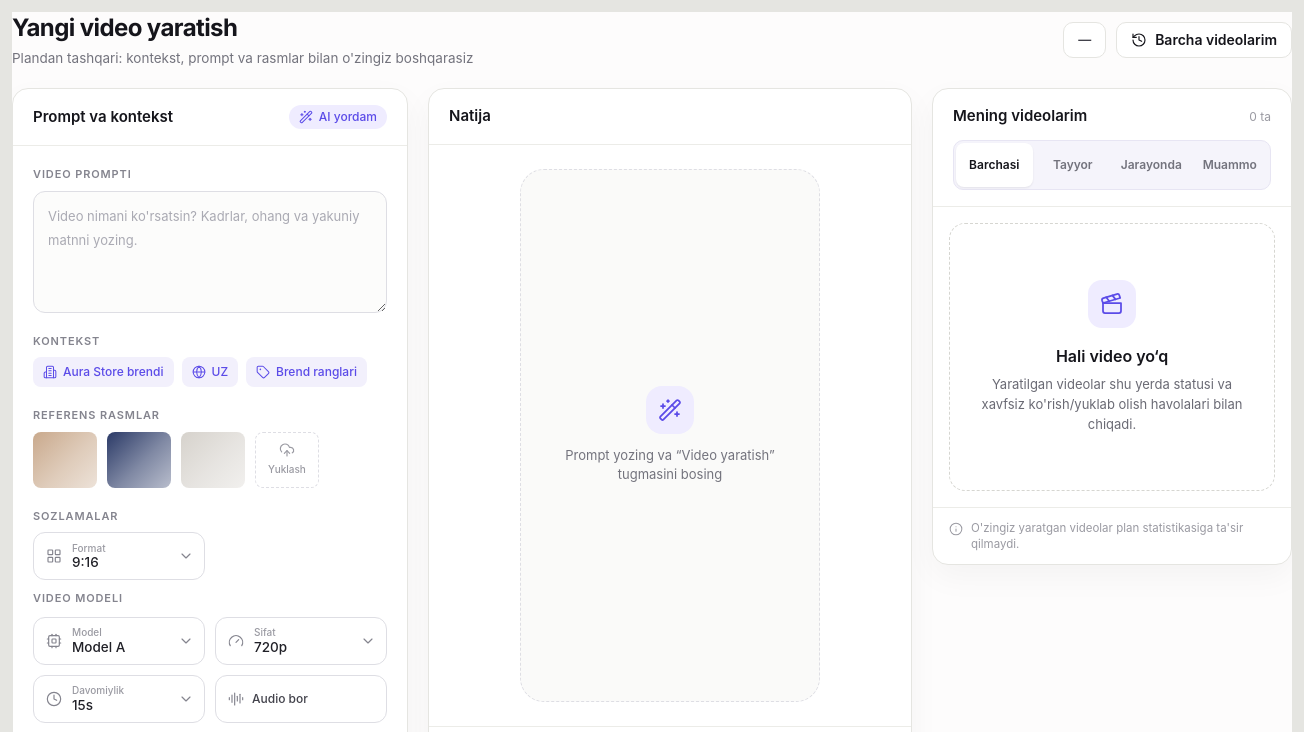
video studio integration › offers model-specific resolutions from the catalog
Click the dropdown named "Video modeli".
click(119, 641)  # box [33, 617, 205, 665]
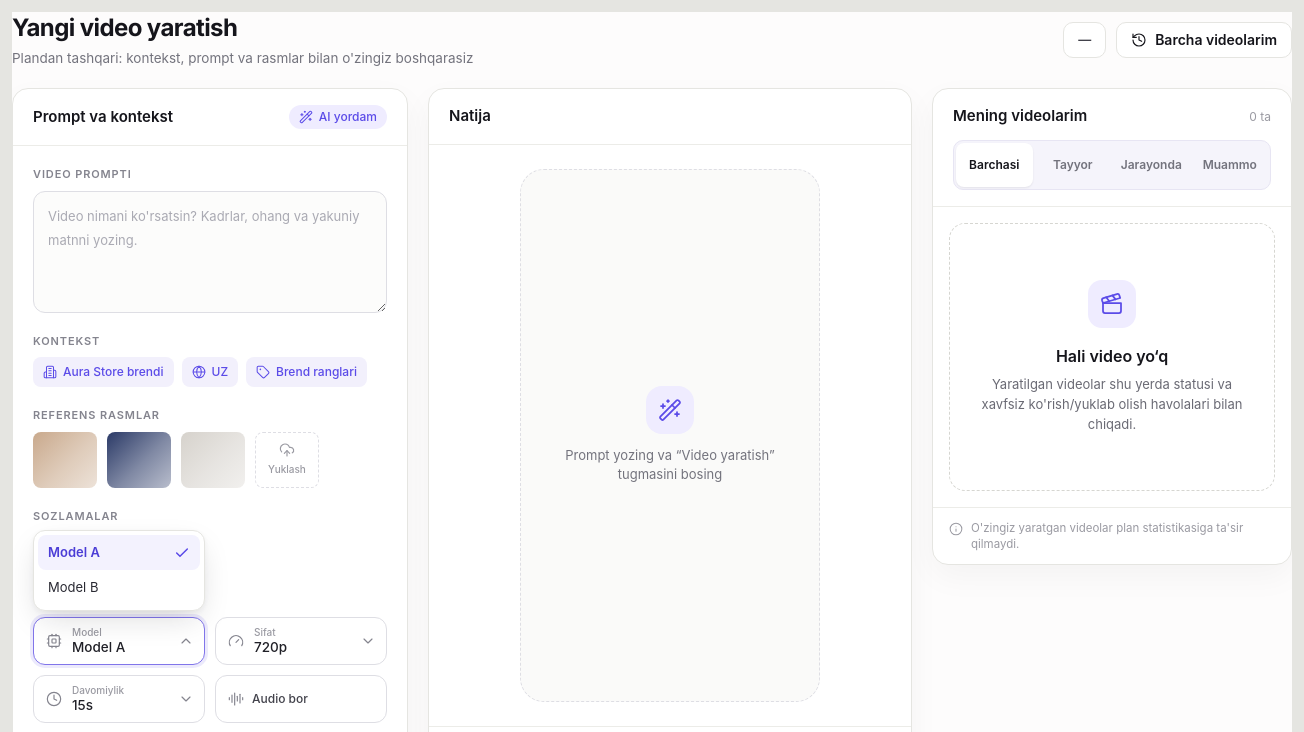
Click the option "Model B".
click(73, 587)  # box [48, 579, 98, 595]
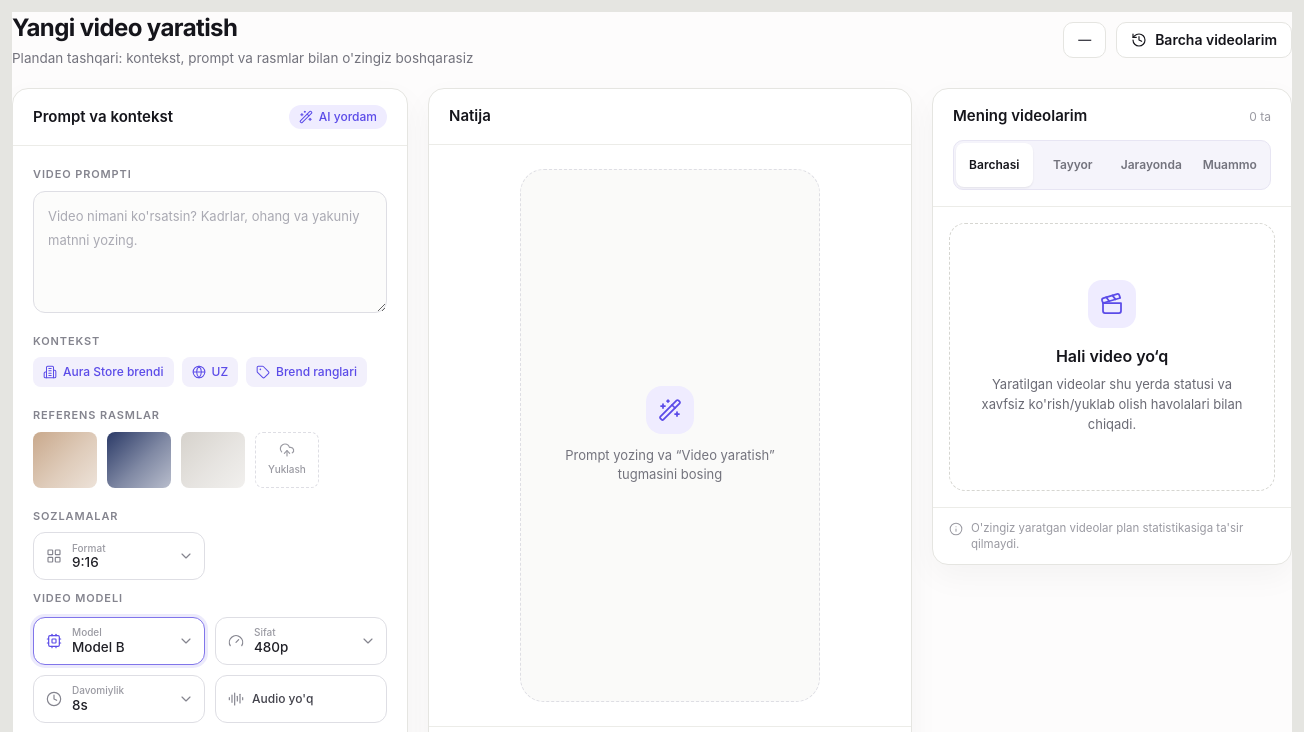
Result: the text "Model B" is shown at [72, 639, 125, 655]
Result: the dropdown named "Sifat" shows "480p" at [215, 617, 387, 665]
Result: the dropdown named "Davomiylik" shows "8s" at [33, 675, 205, 723]
